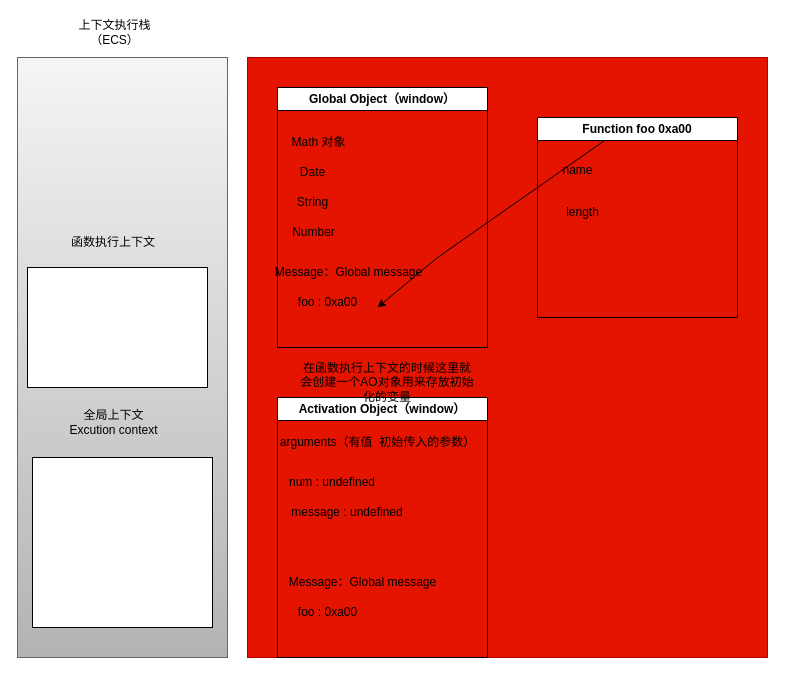
The diagram is 785 pixels wide and 675 high, and some of its shapes have lost their labels. The shapes that lost their labels are listed below. From the top down, each one's centre as x and y in pixels, then its label:
At [117,327]: "VO AO".
At [122,542]: "VO GO scope chain this".
